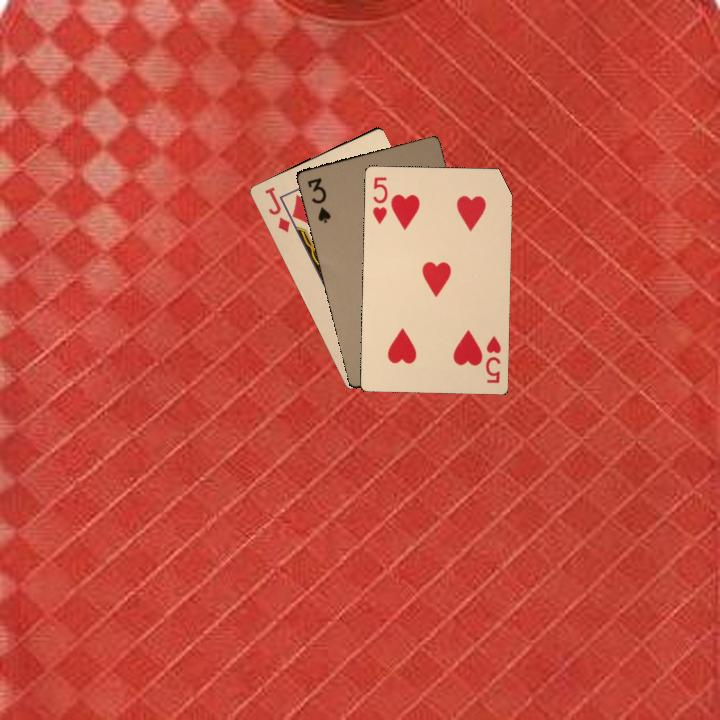3s: (303, 174, 333, 225)
5h: (481, 332, 504, 385), (369, 173, 390, 227)
Jd: (261, 183, 293, 235)
